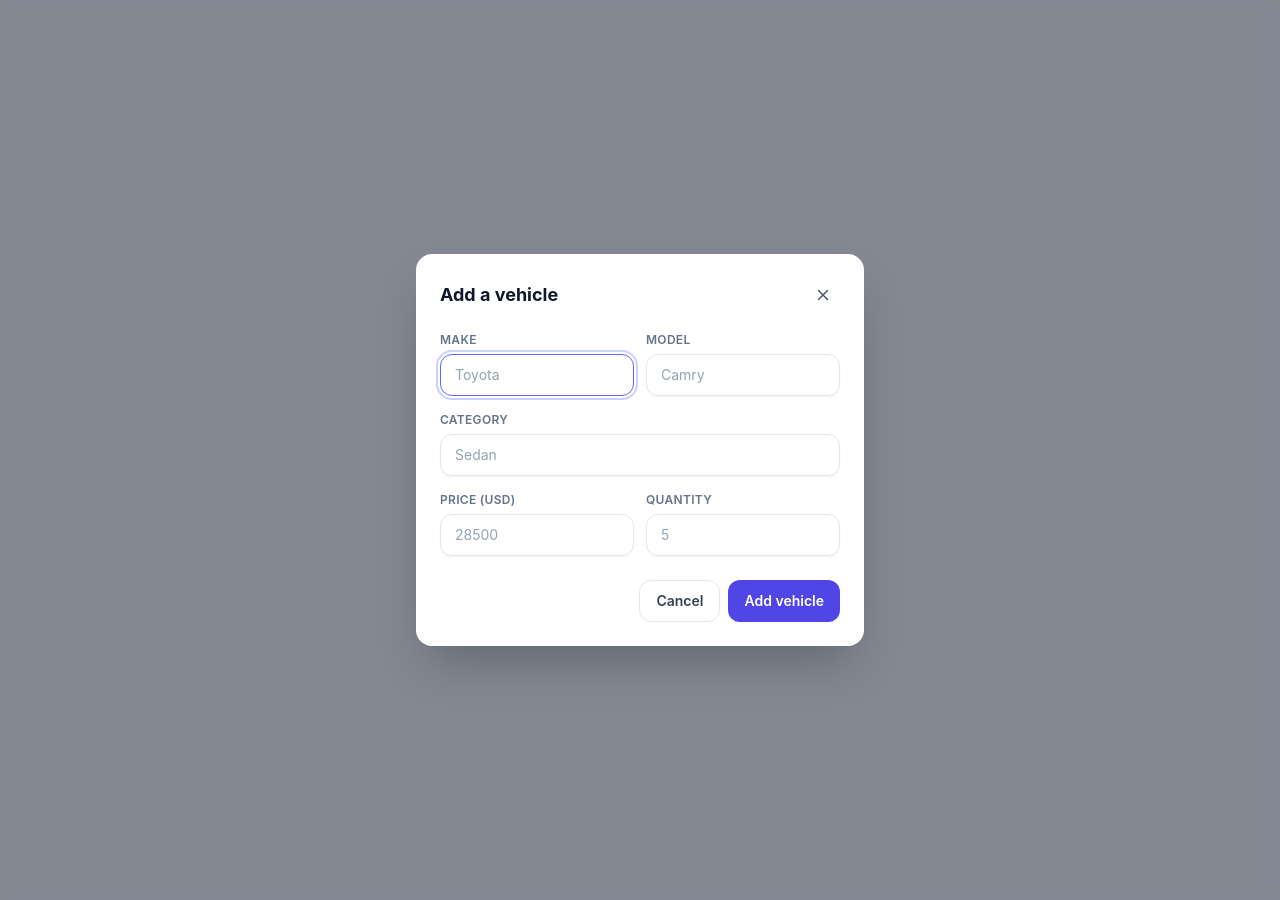
<VehicleFormModal /> › displays server-side errors
In the field labelled "Make": (537, 375) [440,354,634,396], type "A"
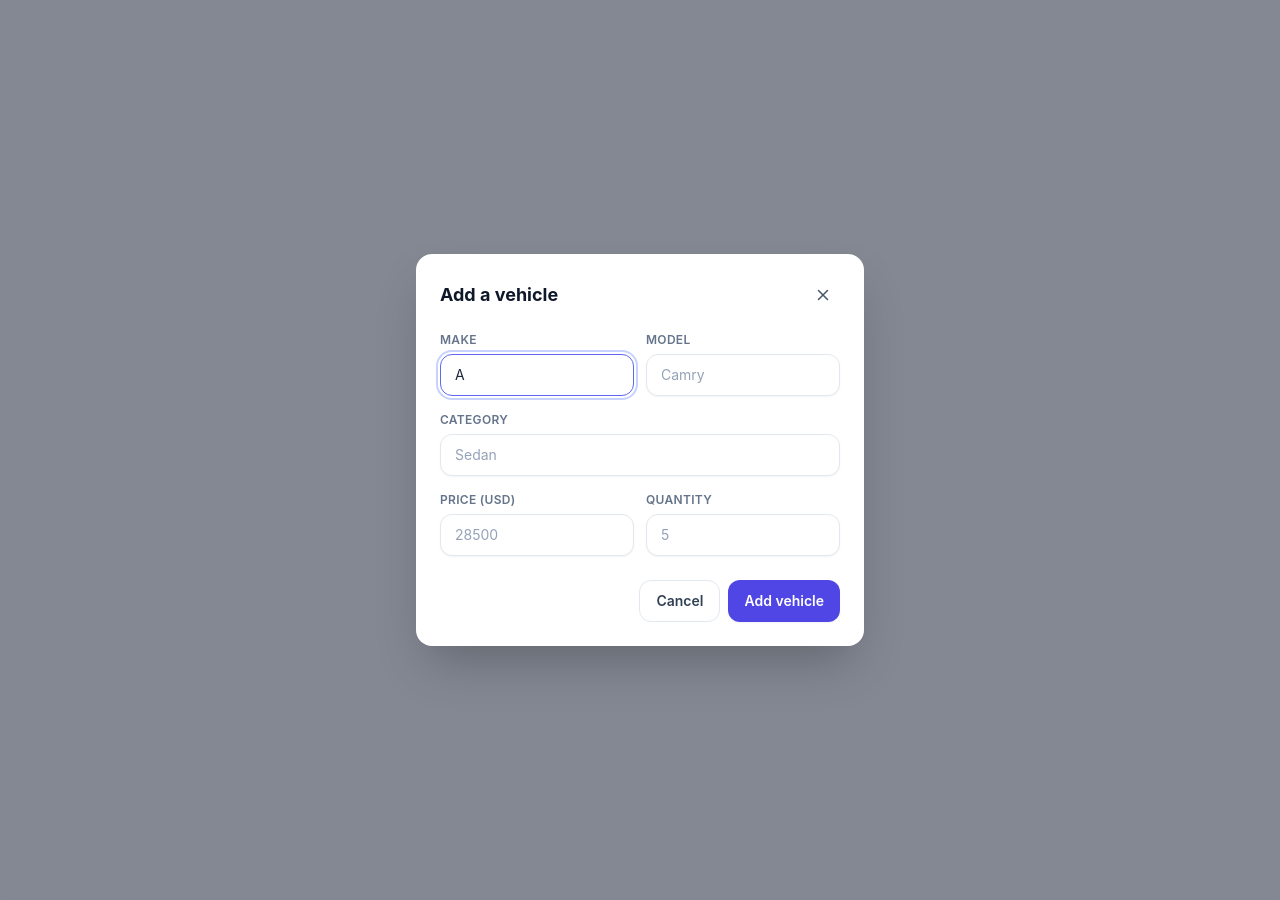
In the field labelled "Model": (743, 375) [646,354,840,396], type "B"
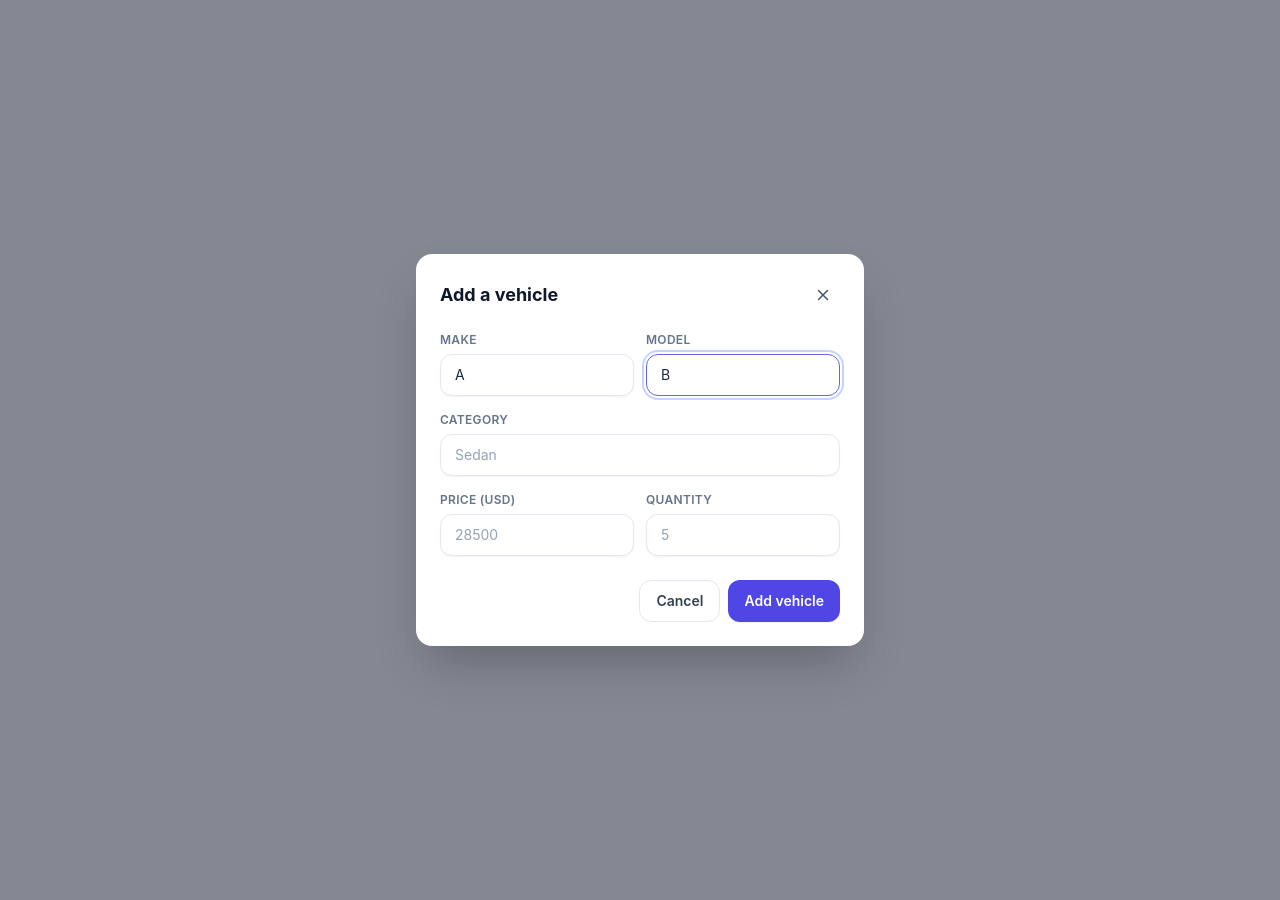
In the field labelled "Category": (640, 455) [440,434,840,476], type "C"
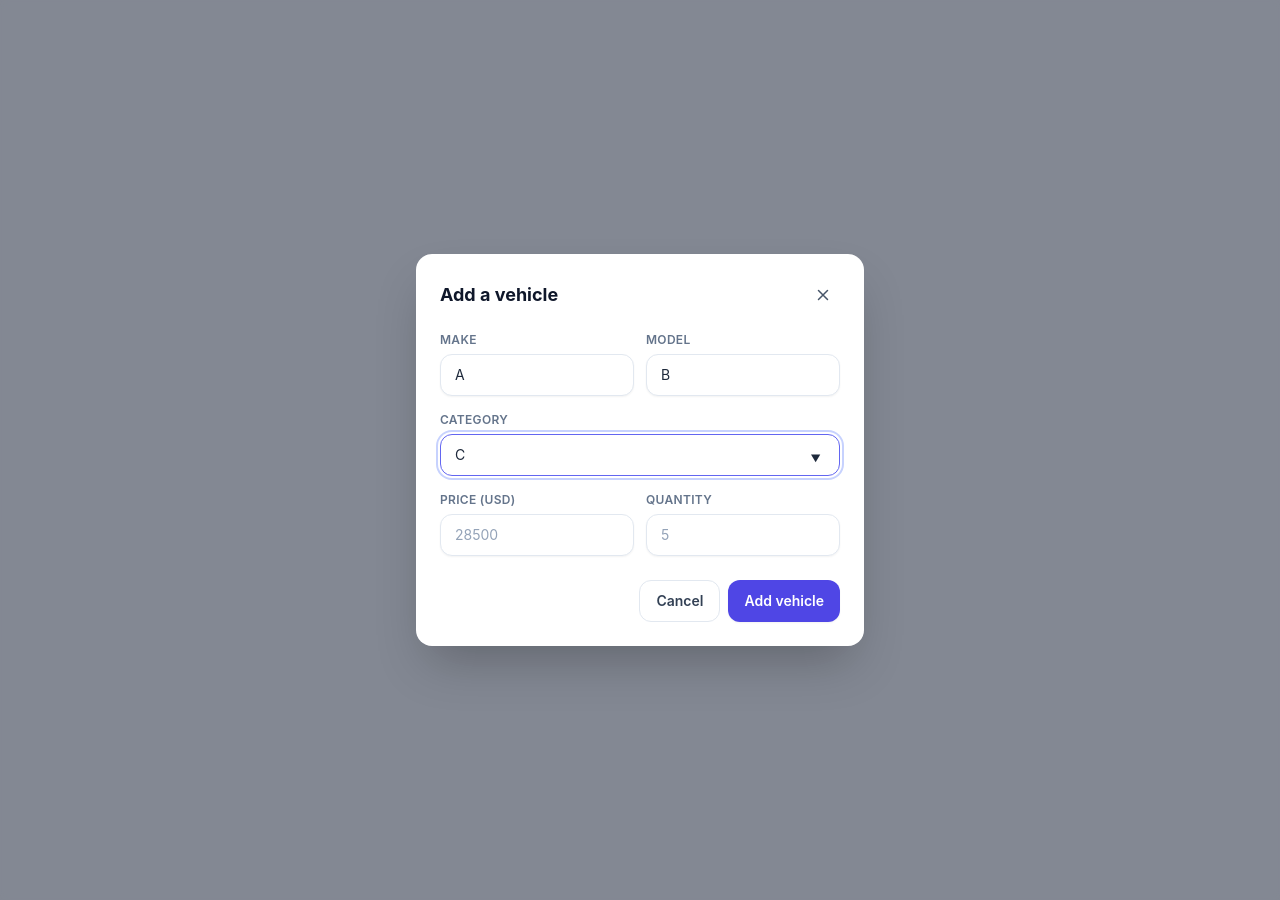
In the number field labelled "Price (USD)": (537, 535) [440,514,634,556], type "1"
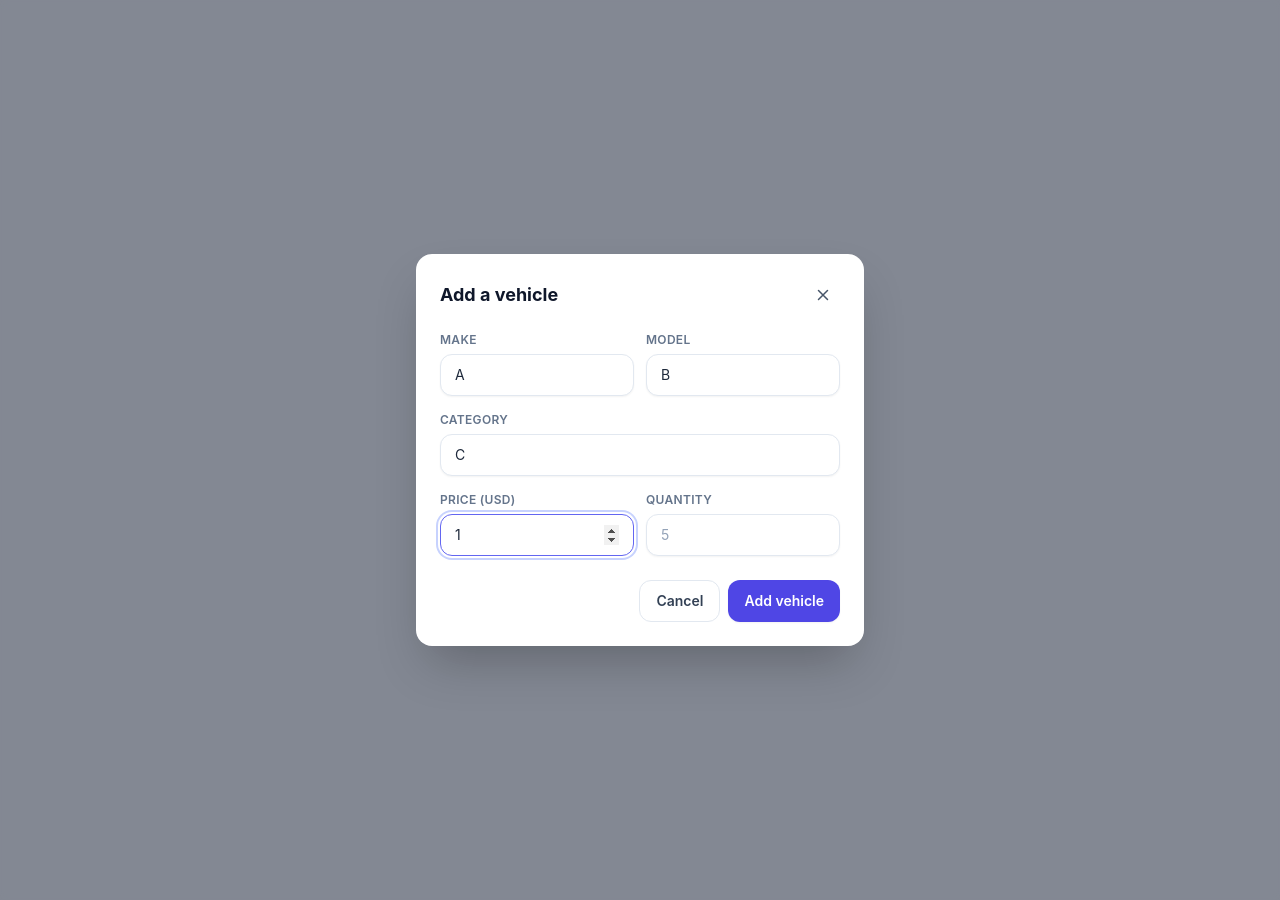
In the number field labelled "Quantity": (743, 535) [646,514,840,556], type "1"
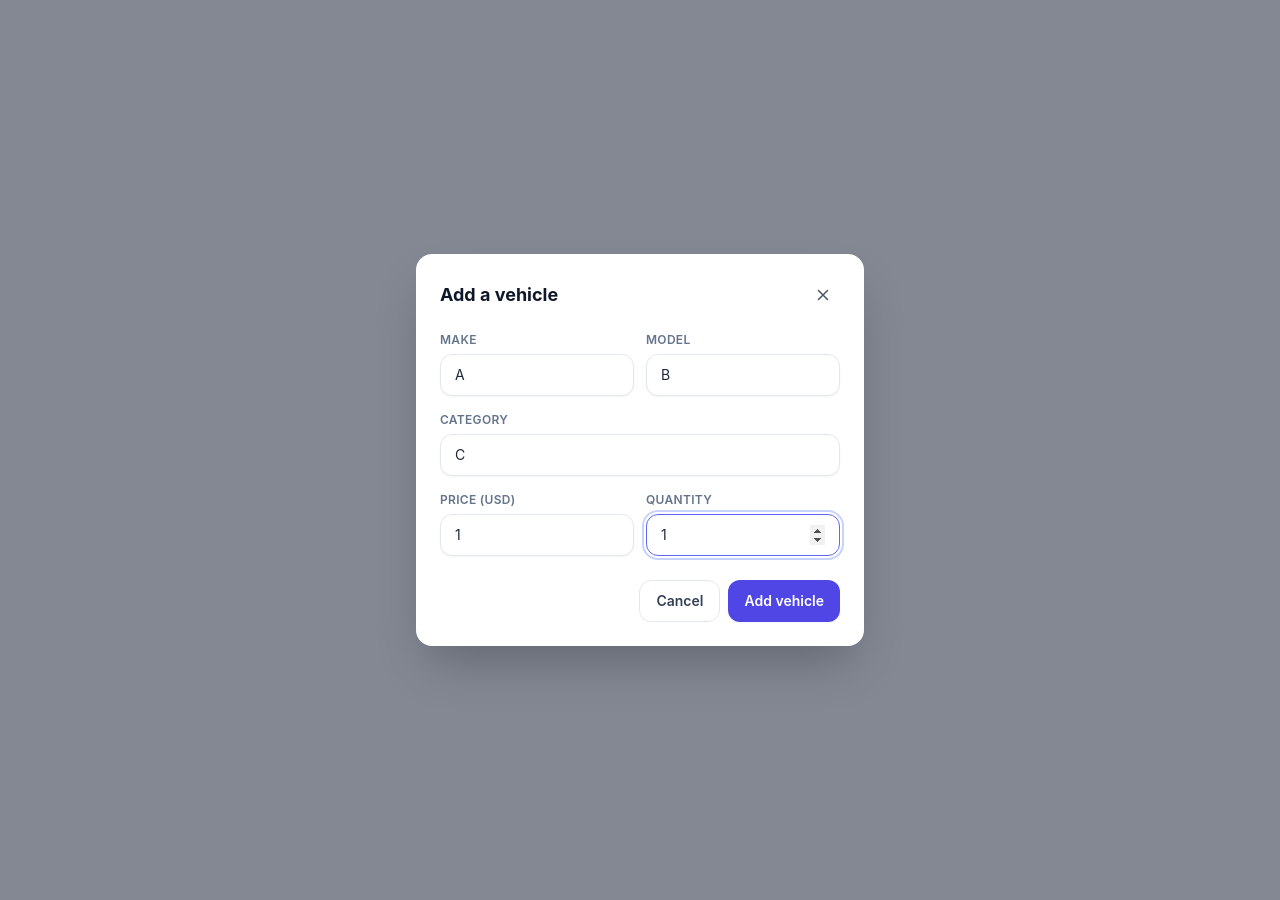
Click the button "Add vehicle": (784, 601) [728,580,840,622]
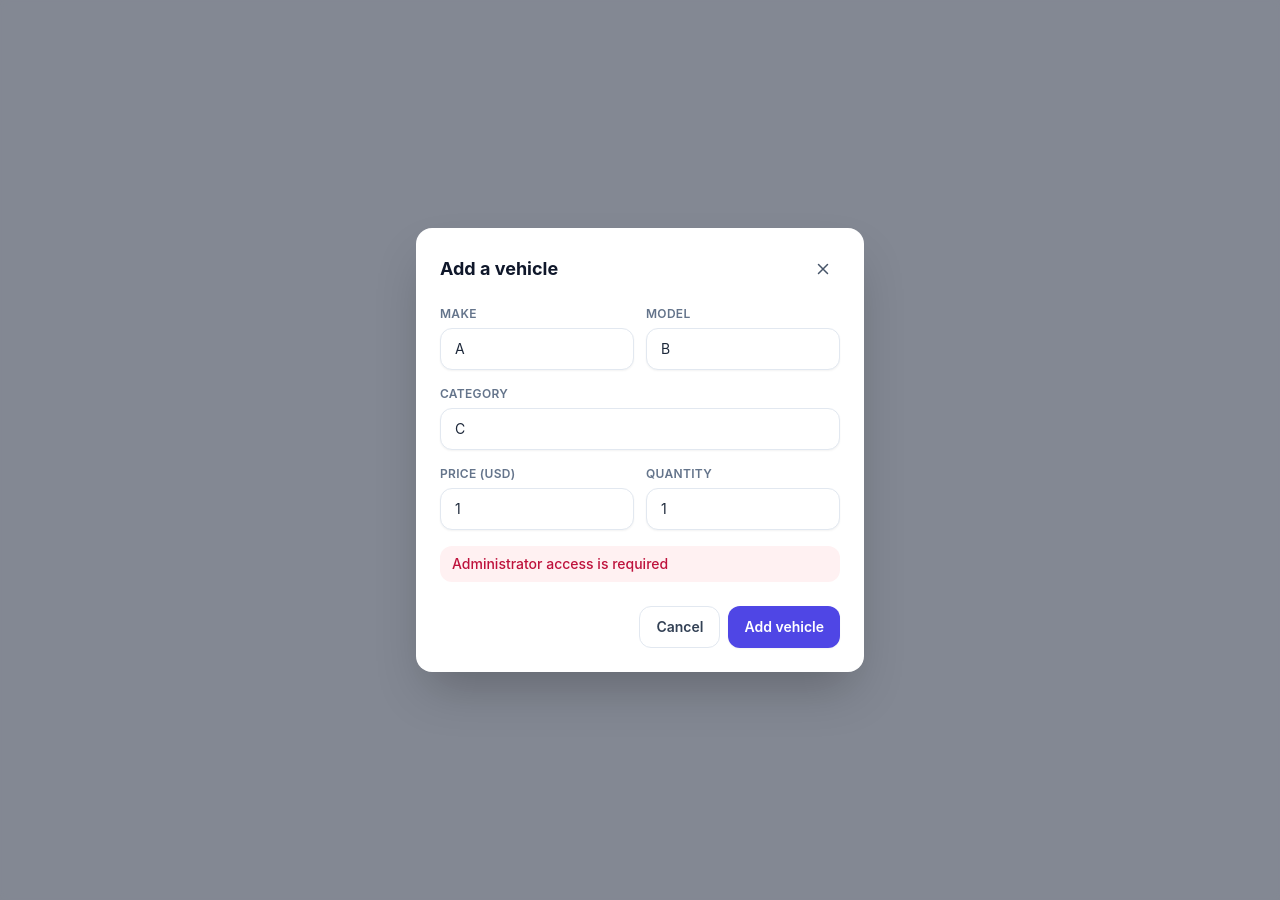
Result: the message reads "Administrator access is required" at [452,555,668,572]
